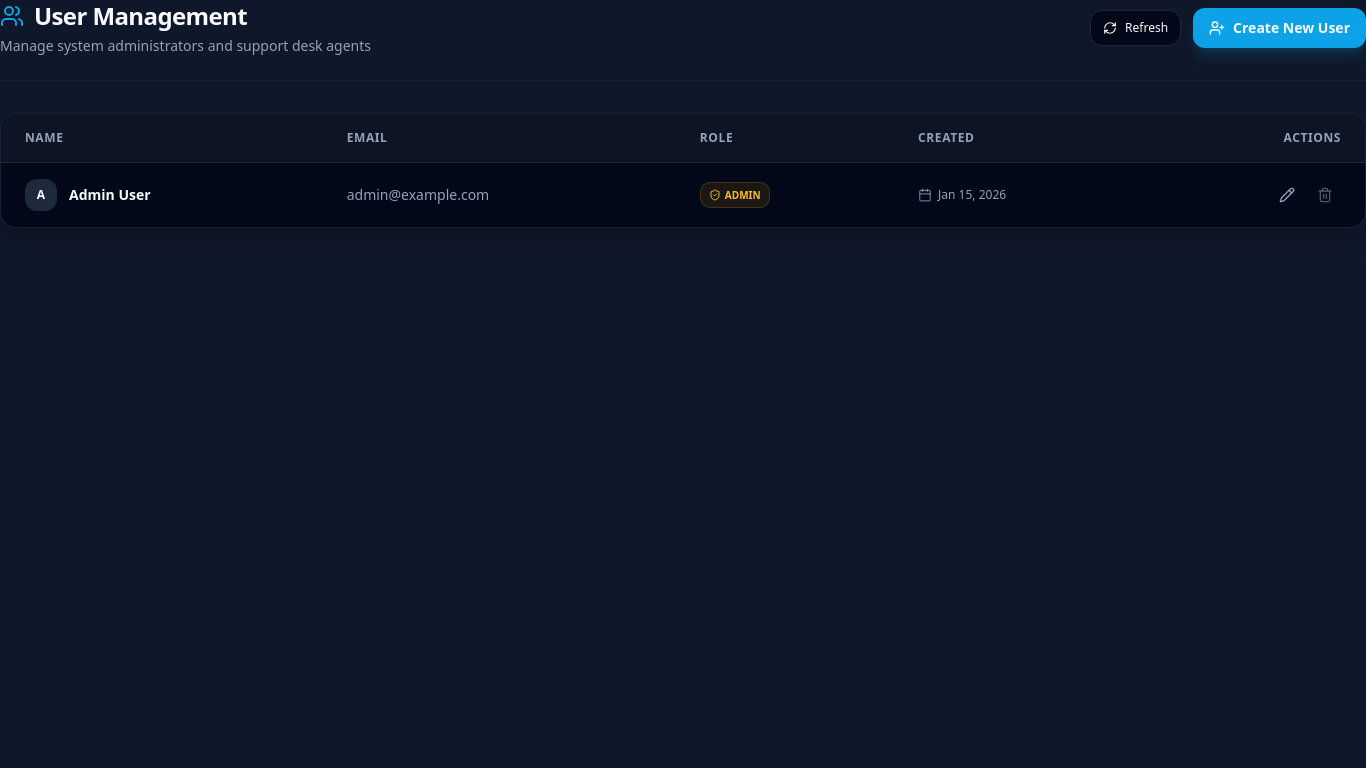
Scenario: Create User Form & Modal Component Tests › 9. Shows server error on 409 conflict ("Email already exists")
Click the button "Create New User": (1280, 28) [1193,8,1365,48]
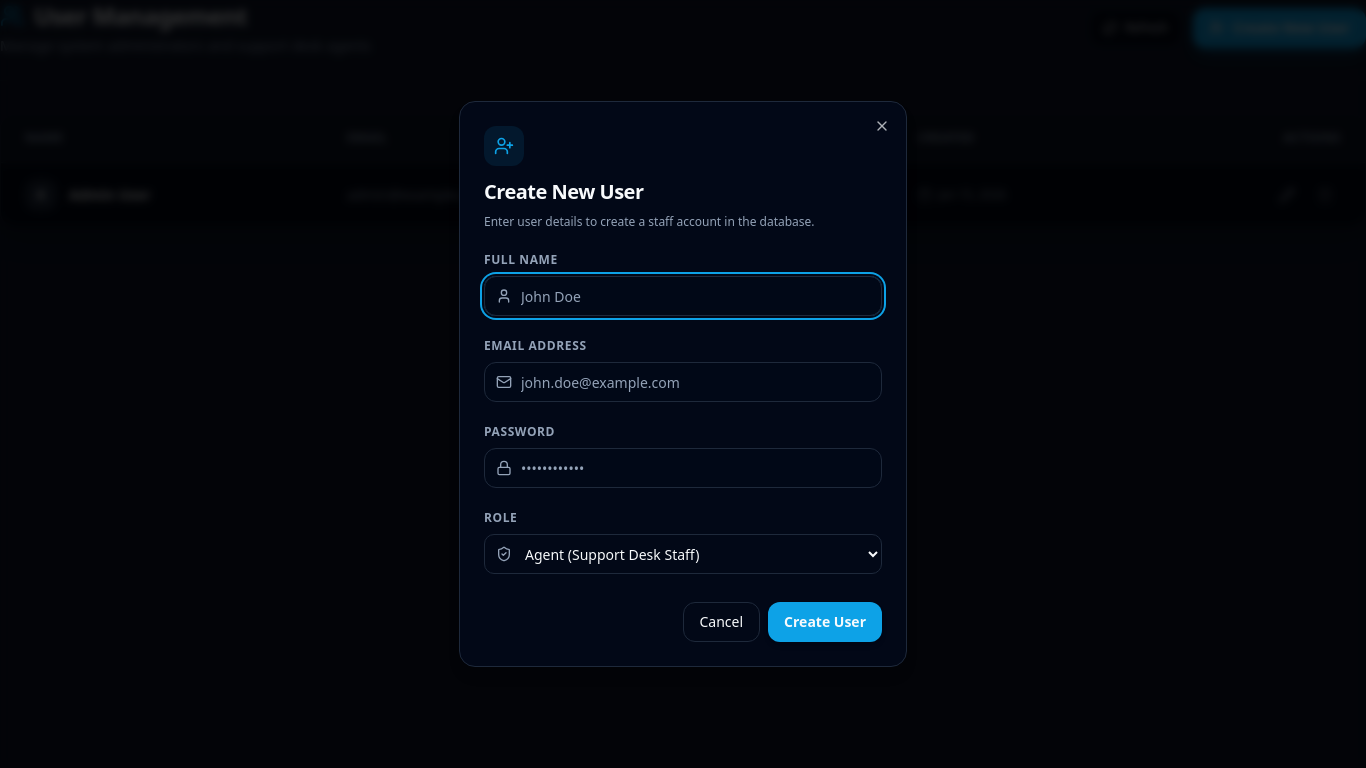
In the field labelled "Full Name": (683, 296) [484,276,882,316], type "Sarah Connor"
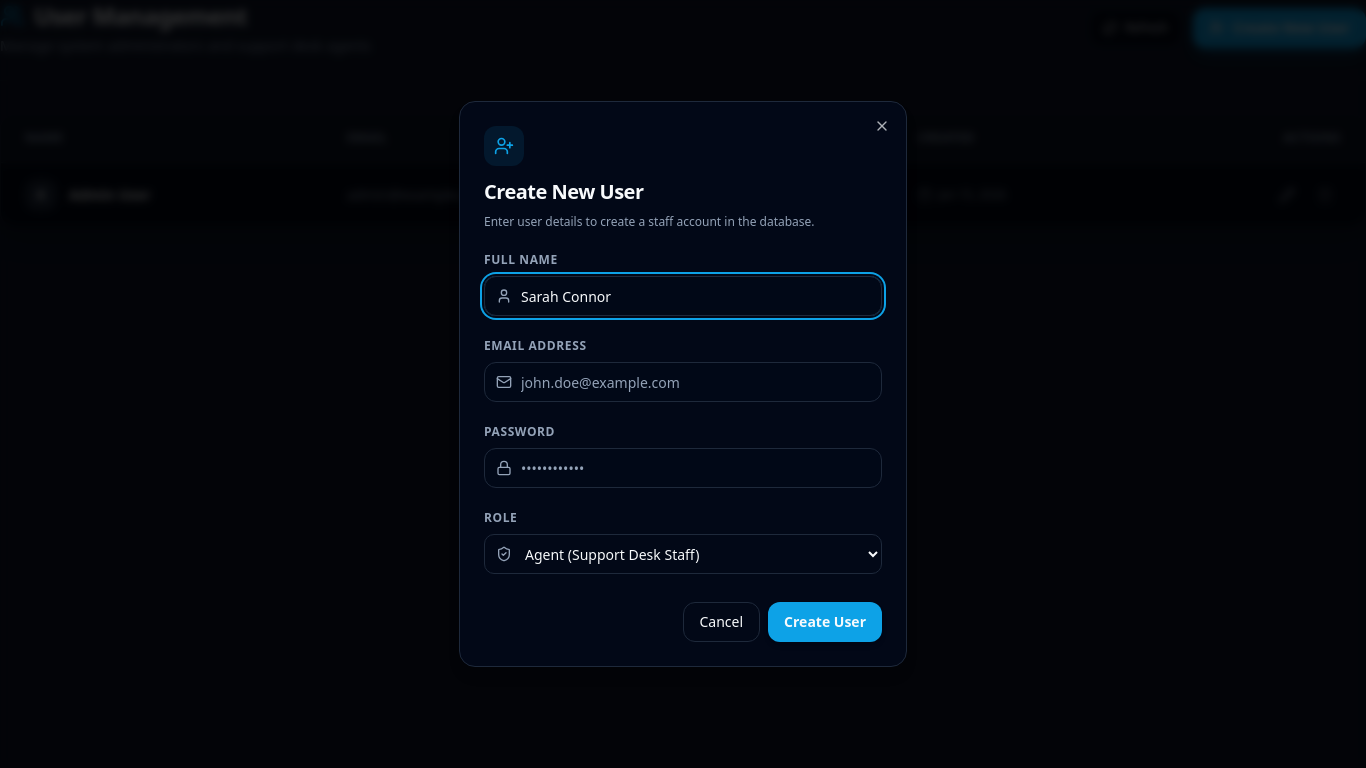
In the field labelled "Email Address": (683, 382) [484,362,882,402], type "sarah@example.com"
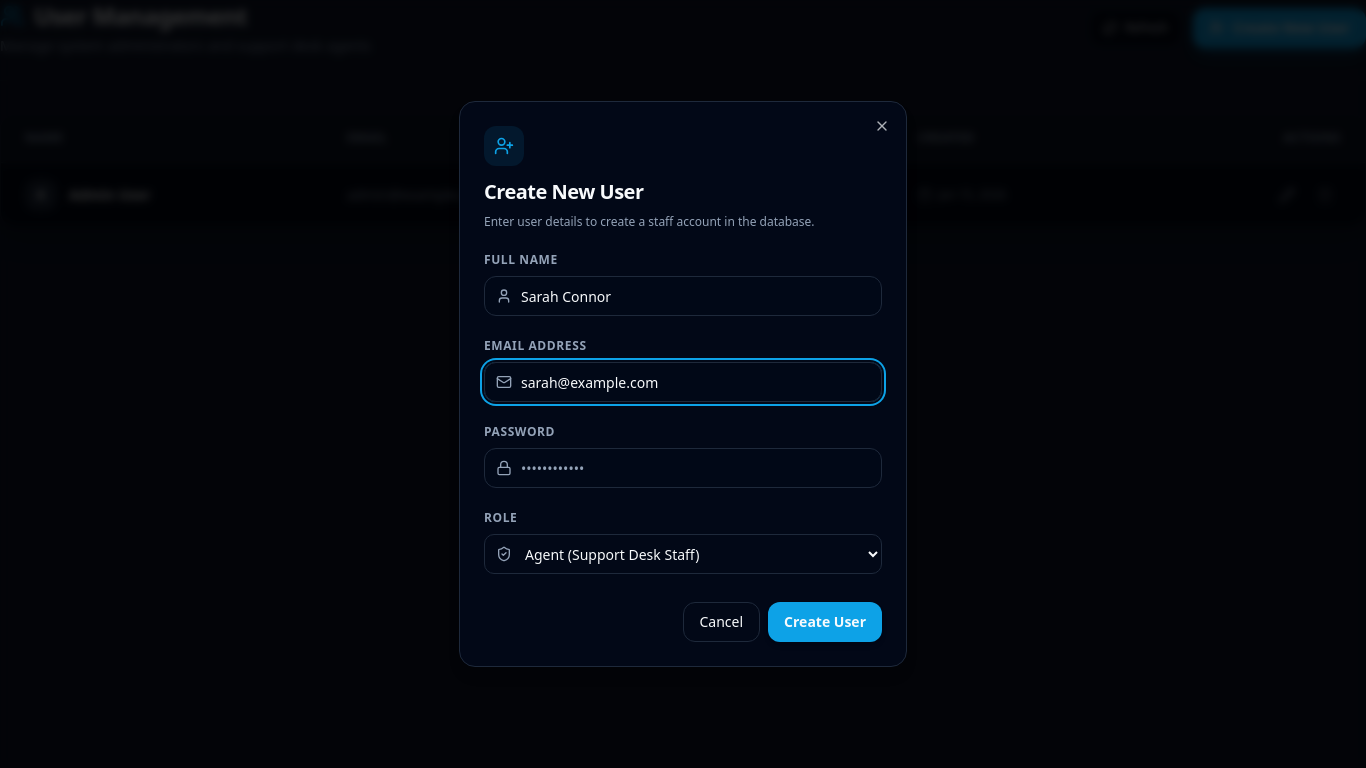
In the password field labelled "Password": (683, 468) [484,448,882,488], type "SecurePass123!"
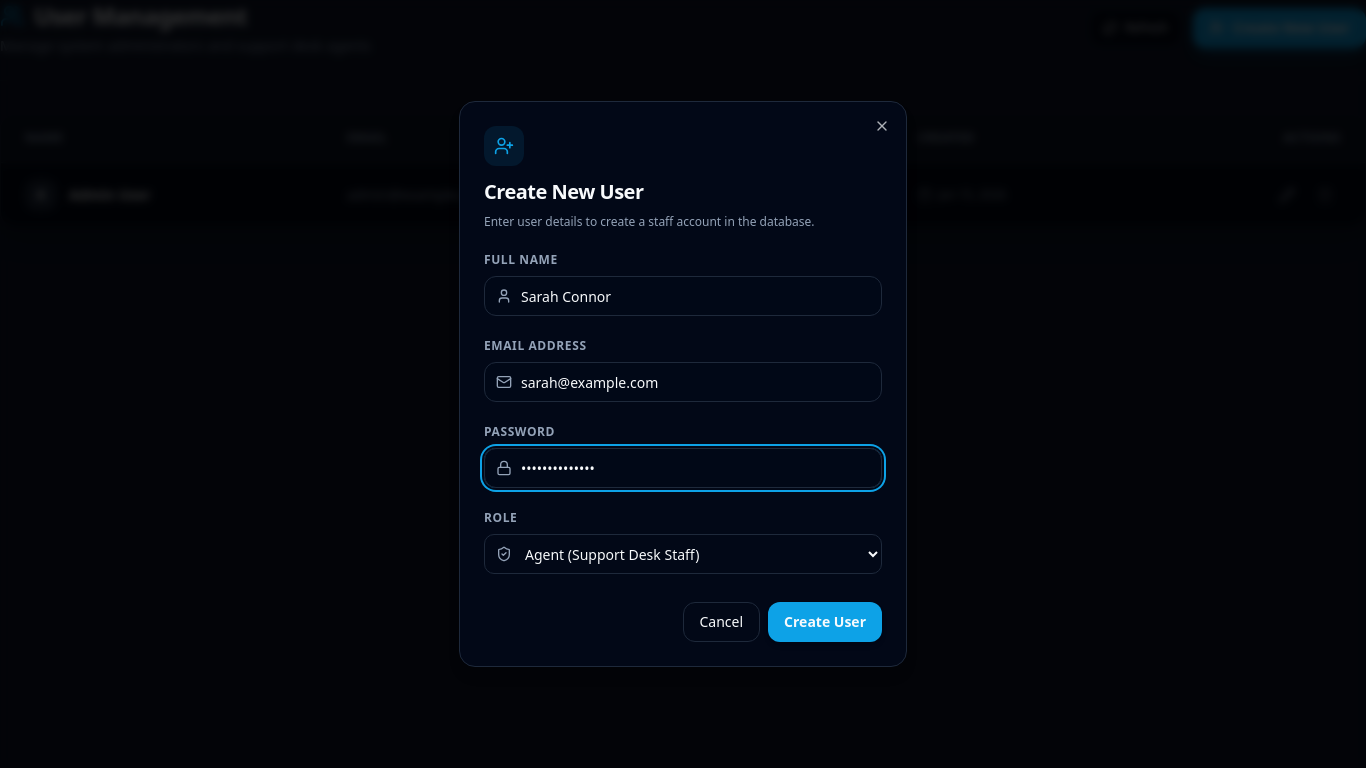
Click the button "Create User": (825, 622) [768,602,882,642]
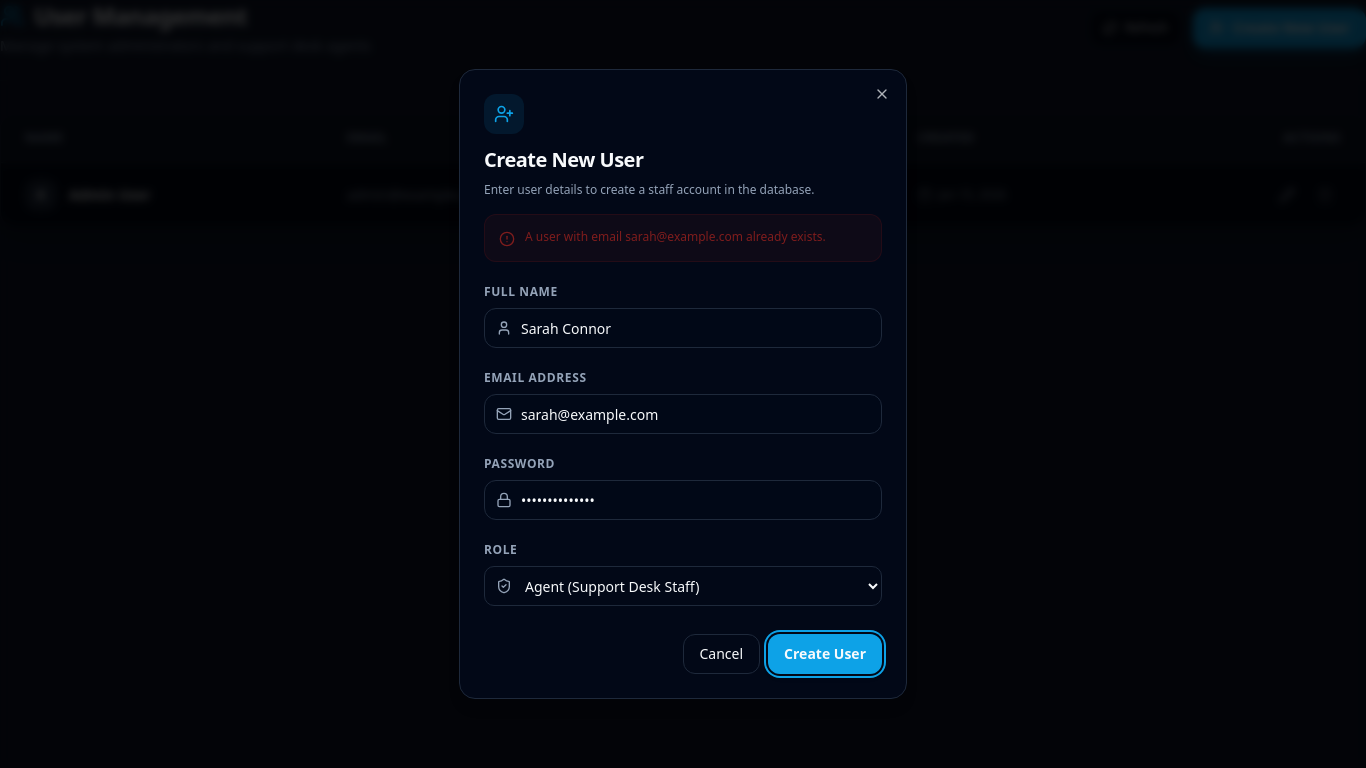
Now the dialog is shown, box [459,69,907,699]
Now the text "A user with email sarah@example.com already exists." is shown, box [525,229,826,245]
